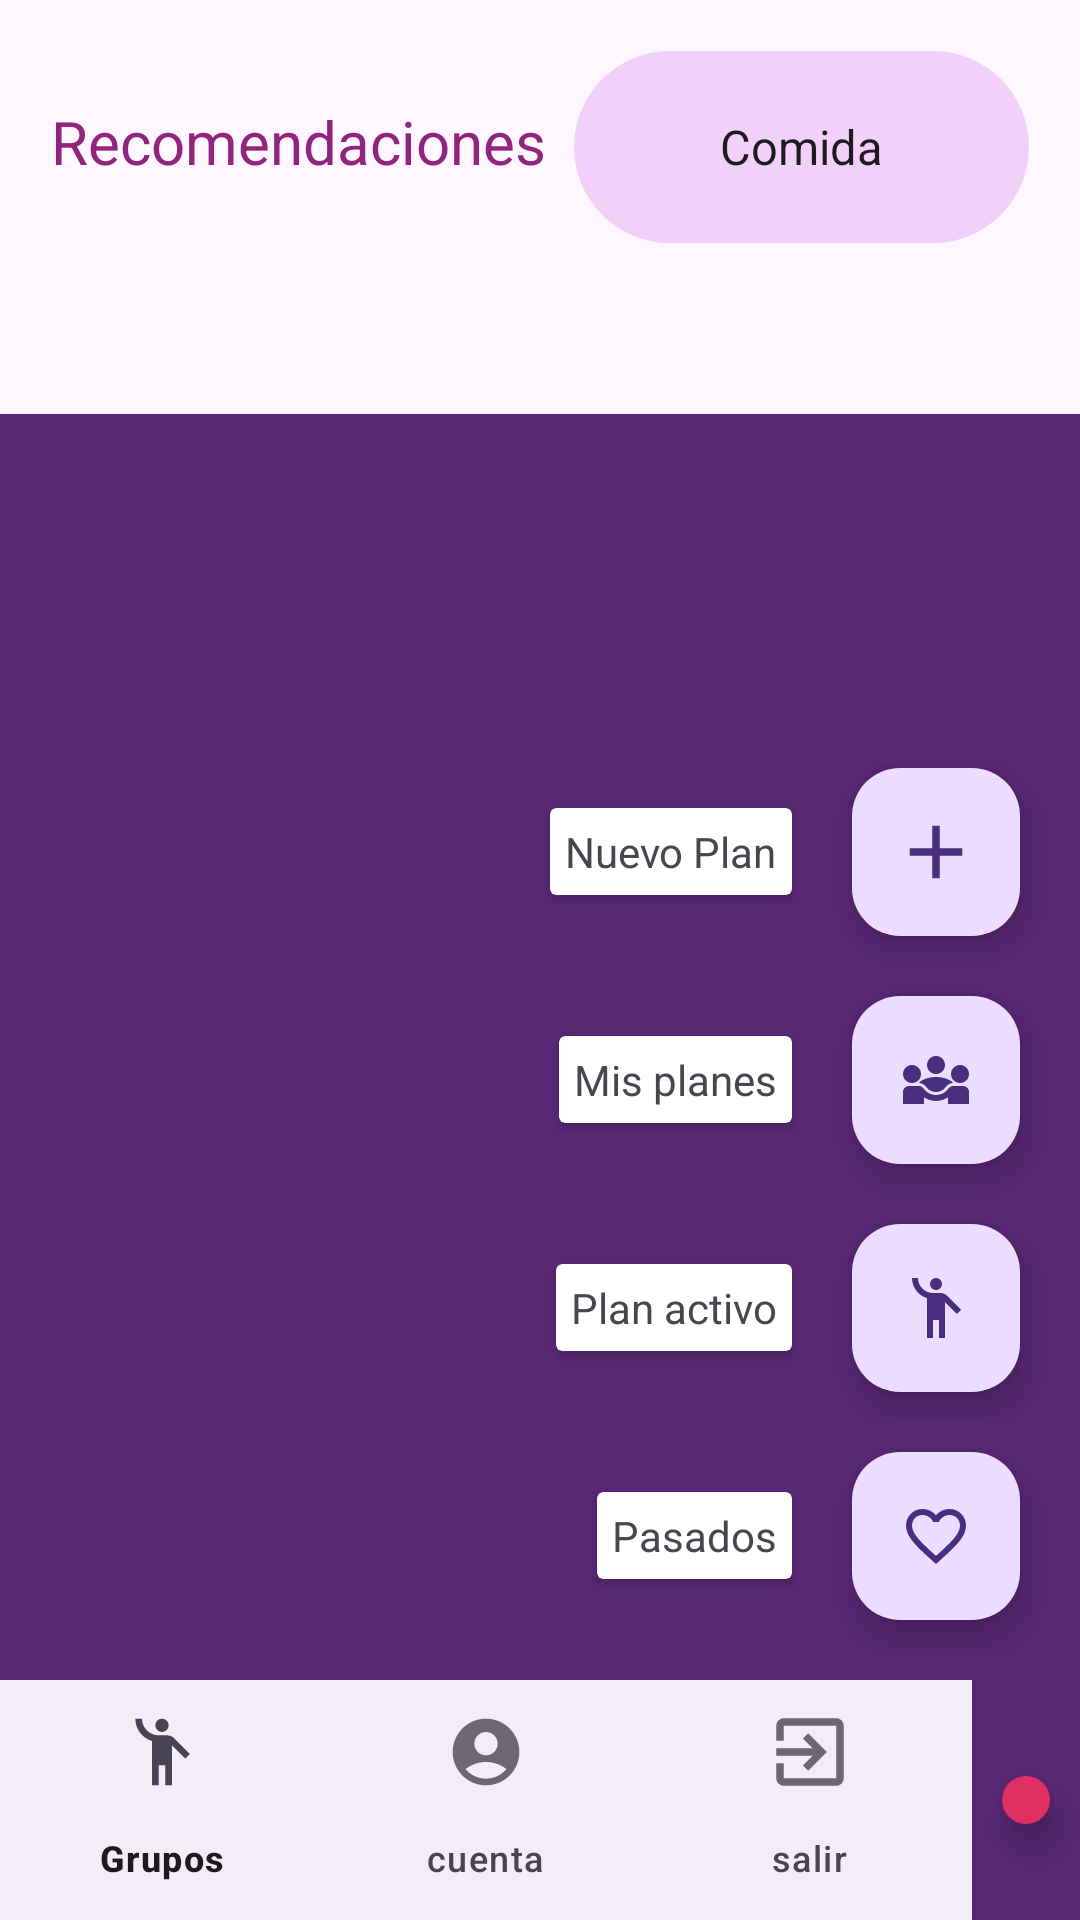

Screen size 1080x1920. Icon name, then its box in pixels as box=[x1, y1, x2, y2]:
mas: box=[852, 768, 1020, 936]
